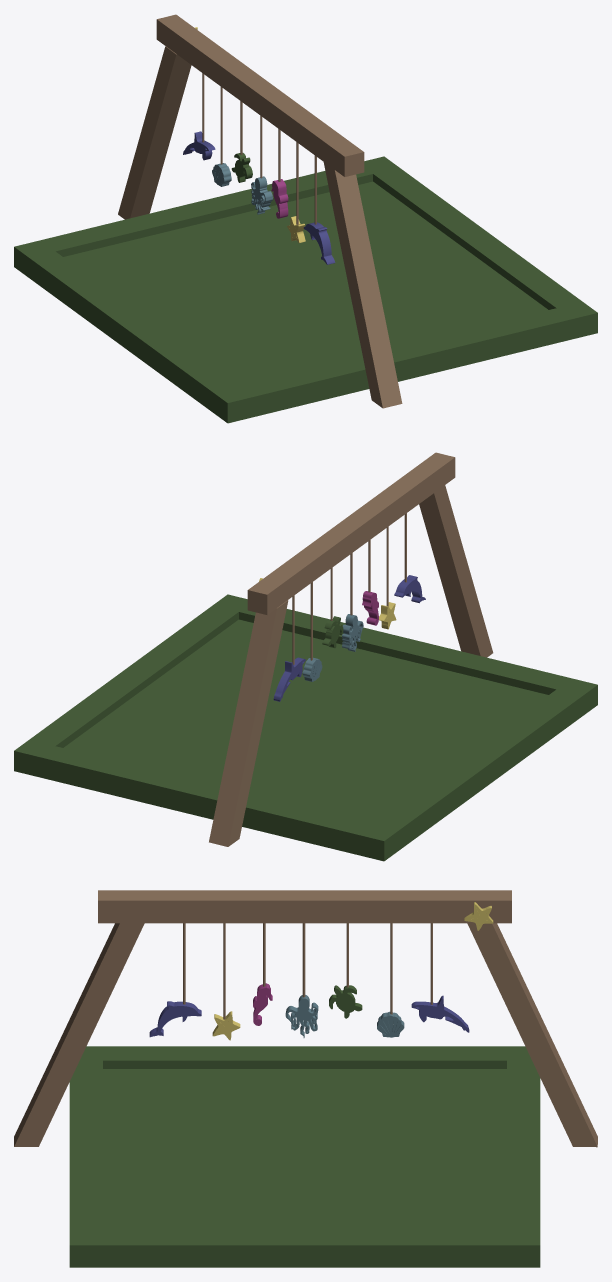
Rendered from babyspielding.fbx.
The picture shows the model from 3 angles, top to bottom: view 1: azimuth 30°, elevation 25°; view 2: azimuth 150°, elevation 25°; view 3: azimuth 270°, elevation 25°; orthographic projection. The views are drawn at different scales.
Visible parts, largest first — view 1: Curve.015; view 2: Curve.015; view 3: Curve.015.
Boxes of the visible parts, x1,y1,x2,y2 form: Curve.015: (14,14,597,423); Curve.015: (14,452,597,861); Curve.015: (14,890,597,1267).
Bounding box in the file's own units: 200 × 116 × 248.
